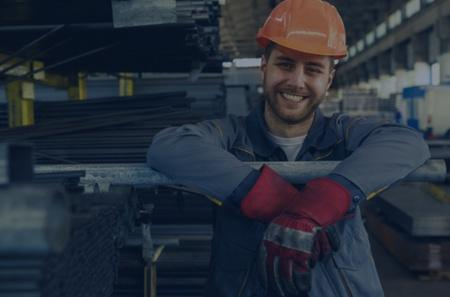helmet: (259, 1, 350, 58)
